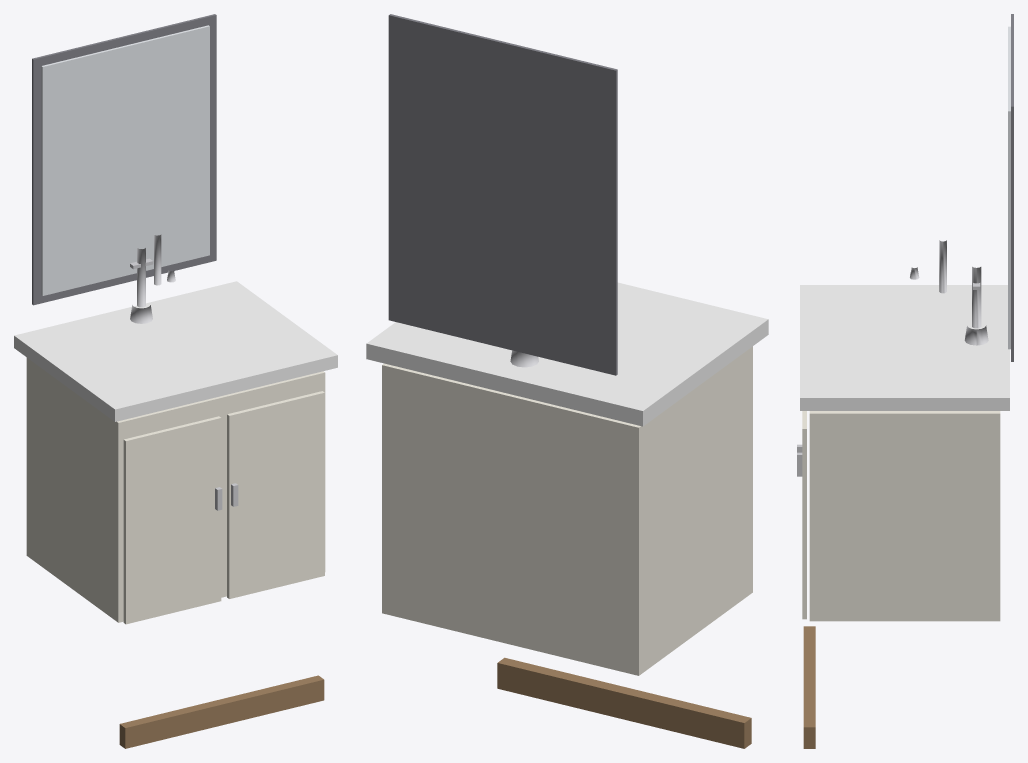
The model's file is washbasin.glb.
The picture shows the model from 3 angles, left to right: view 1: azimuth 30°, elevation 25°; view 2: azimuth 150°, elevation 25°; view 3: azimuth 270°, elevation 25°; orthographic projection. The views are drawn at different scales.
Visible parts, largest first — view 1: mirror, top, cabinet, cabinet_door_l, cabinet_door_r, mirror_frame, plinth; view 2: cabinet, mirror_frame, top, plinth; view 3: cabinet, top, plinth, cabinet_door_r, mirror_frame, mirror, faucet_stem, faucet_spout, faucet_base.
Boxes of the visible parts, x1,y1,x2,y2 form: mirror: [41, 25, 209, 295]; top: [14, 281, 337, 421]; cabinet: [26, 357, 325, 622]; cabinet_door_l: [123, 416, 221, 624]; cabinet_door_r: [227, 391, 324, 598]; mirror_frame: [32, 14, 216, 305]; plinth: [119, 675, 324, 748]; cabinet: [382, 346, 752, 675]; mirror_frame: [388, 14, 617, 375]; top: [366, 282, 768, 426]; plinth: [497, 657, 751, 748]; cabinet: [809, 411, 1000, 621]; top: [800, 285, 1009, 410]; plinth: [803, 626, 815, 748]; cabinet_door_r: [802, 411, 806, 619]; mirror_frame: [1011, 14, 1013, 361]; mirror: [1008, 26, 1010, 349]; faucet_stem: [972, 266, 981, 328]; faucet_spout: [939, 240, 946, 293]; faucet_base: [964, 325, 988, 345].
Size of the model in its own units: 0.56 by 1.48 by 0.454.
